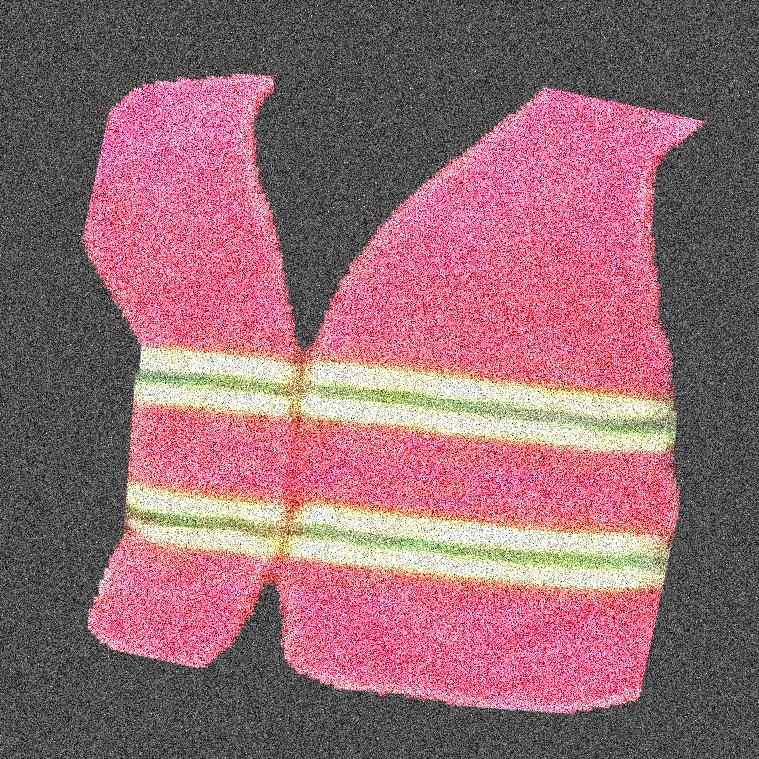Colete: (198, 0, 758, 758)
